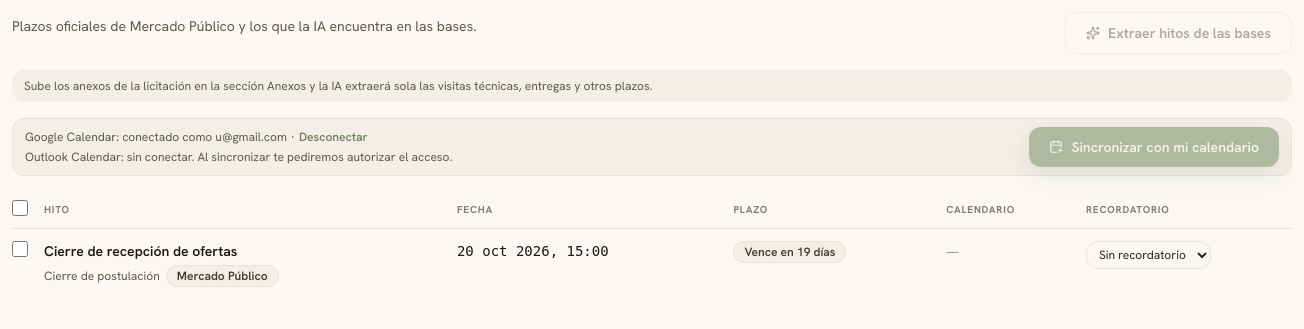
Test: MilestonesSection › botón Sincronizar con mi calendario (criterio 2) › con los dos configurados, el botón abre un menú para elegir el calendario
Click the checkbox named "seleccionar cierre". click: (20, 249)
box: [12, 241, 28, 257]
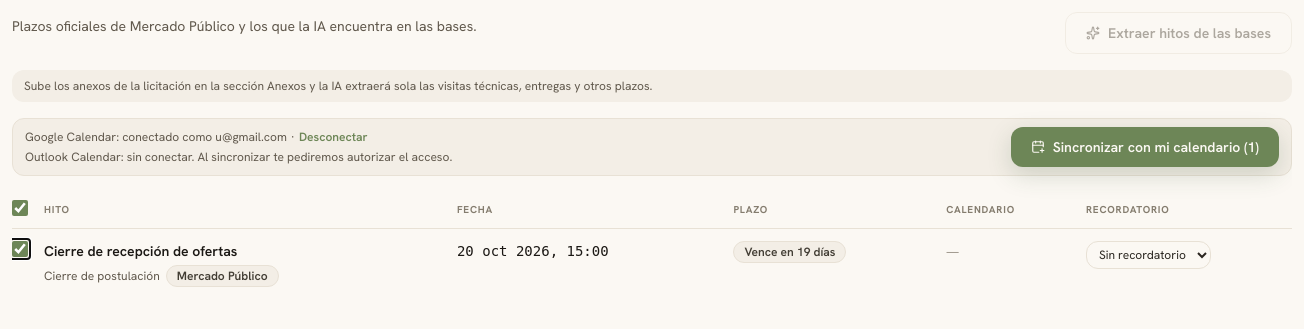
Click the button "Sincronizar con mi calendario (1)". click: (1145, 147)
box: [1011, 127, 1279, 167]
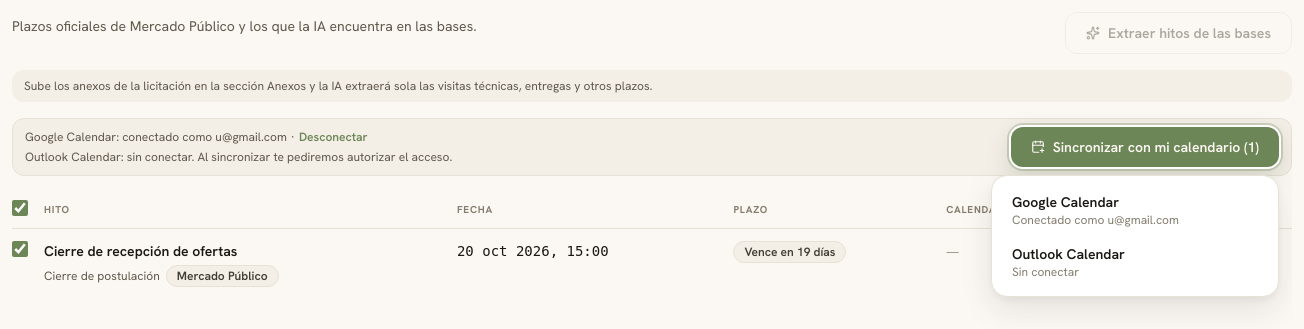
Check: the menu item "Google Calendar Conectado como u@gmail.com" is shown, box [1000, 184, 1270, 236]
Check: the menu item "Outlook Calendar Sin conectar" is shown, box [1000, 236, 1270, 288]
